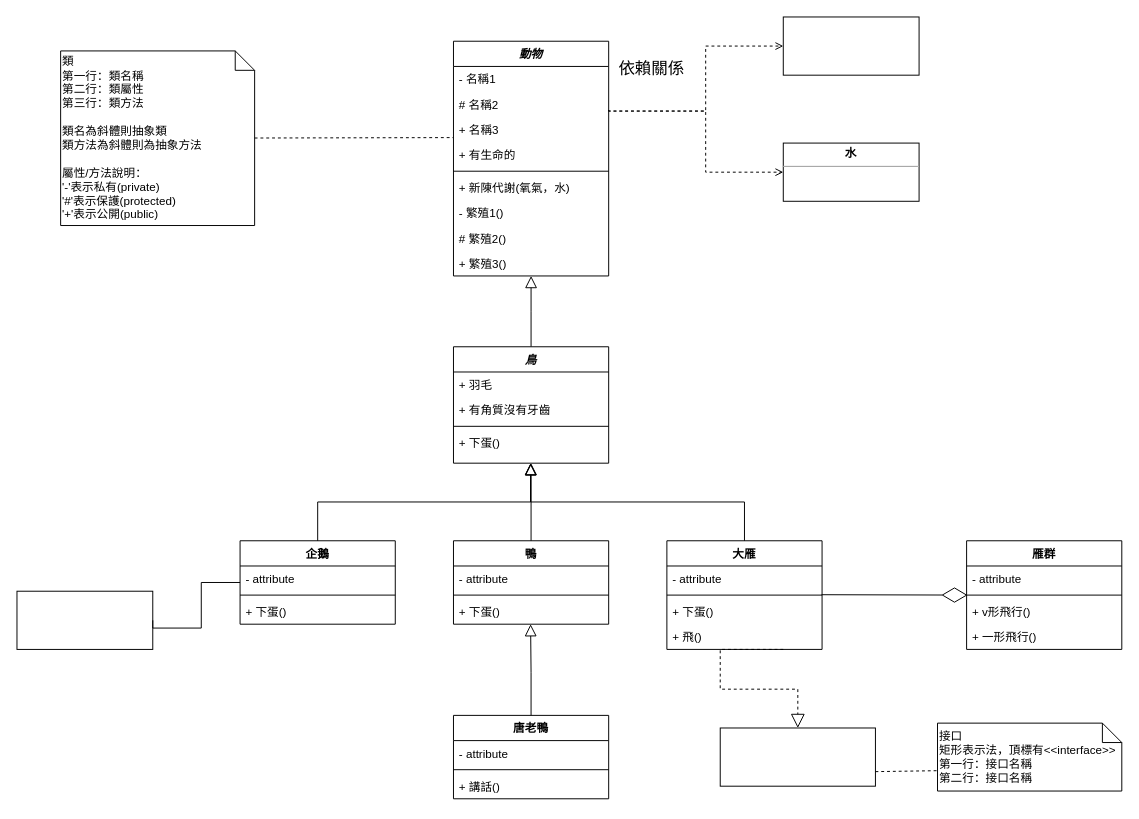
Some shapes in this 1139 by 819 pixel diagram are drawn without their labels. The centre of each missing label's shape, as x and y in pixels:
"<<Interface>> 飛翔 + 飛()" belongs at point (797, 756).
"氣候" belongs at point (84, 619).
"氧氣" belongs at point (850, 45).
